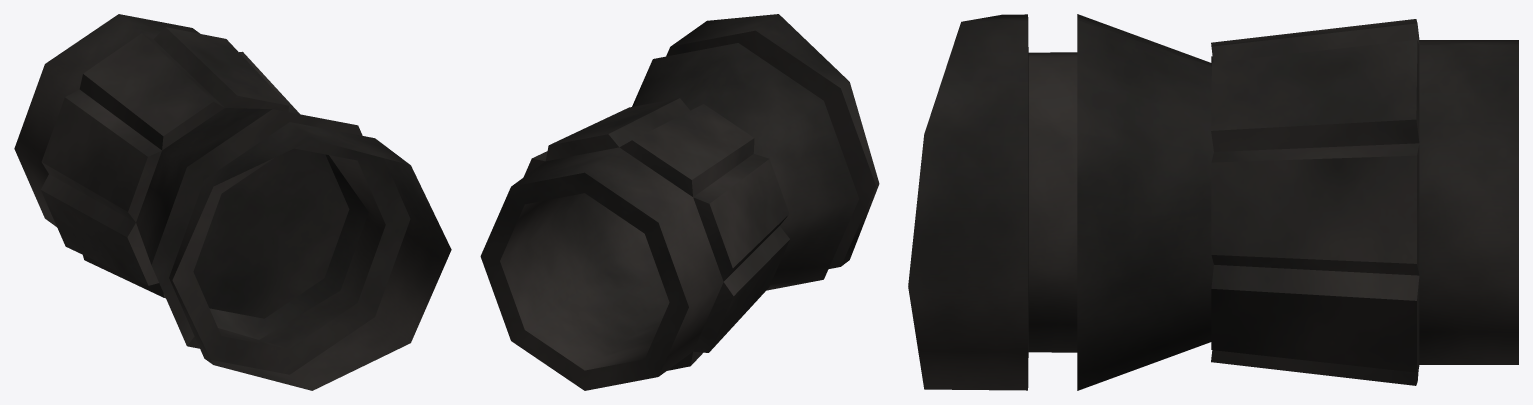
Rendered from e_starboard_outer_engine_d_model.fbx.
3 renders of one model, left to right at view 1: azimuth 30°, elevation 25°; view 2: azimuth 150°, elevation 25°; view 3: azimuth 270°, elevation 25°, orthographic. The views are drawn at different scales.
Parts seen in each view (by area): view 1: starboardFarEngine1; view 2: starboardFarEngine1; view 3: starboardFarEngine1.
Part boxes in pixels (x1,y1,x2,y2): starboardFarEngine1: (14, 14, 451, 390); starboardFarEngine1: (480, 14, 879, 390); starboardFarEngine1: (908, 14, 1518, 390).
Size of the model in its own units: 1708 by 1708 by 2600.
Materials: 1 (1 with a texture image).
